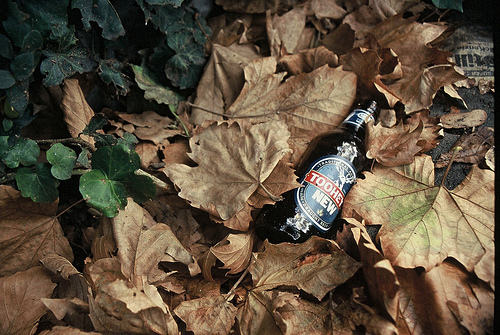litter: (252, 98, 378, 245)
